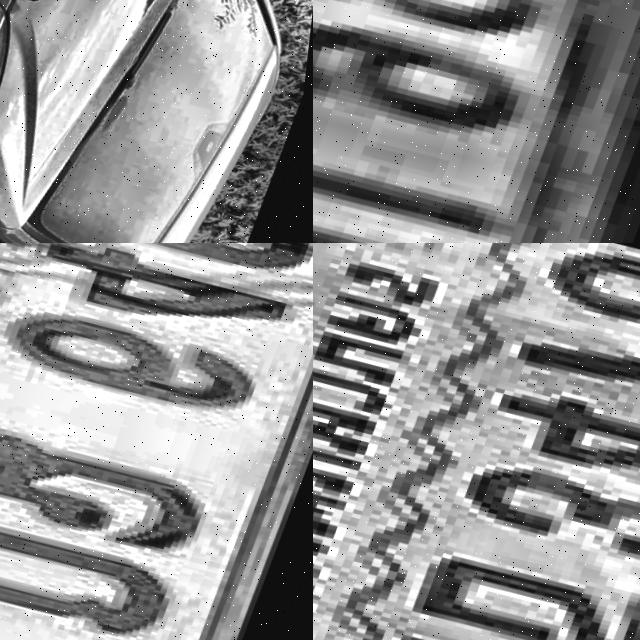license-plate: (313, 243, 640, 640), (0, 243, 313, 640), (313, 0, 640, 243)
